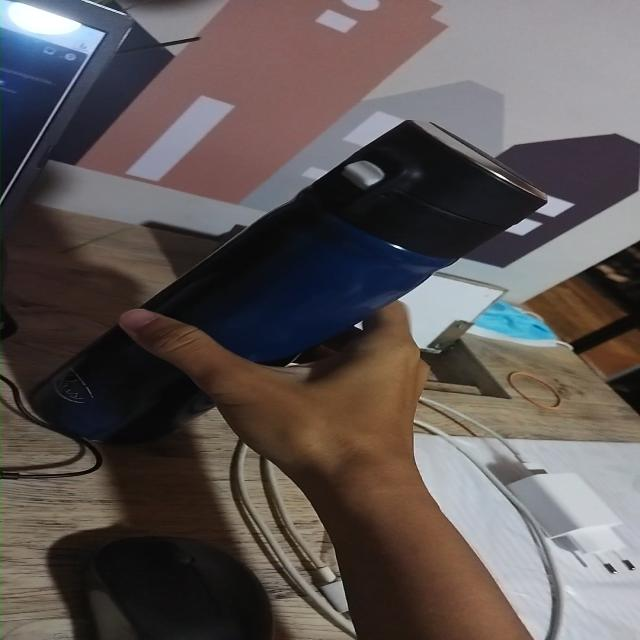bottle: (22, 118, 545, 447)
